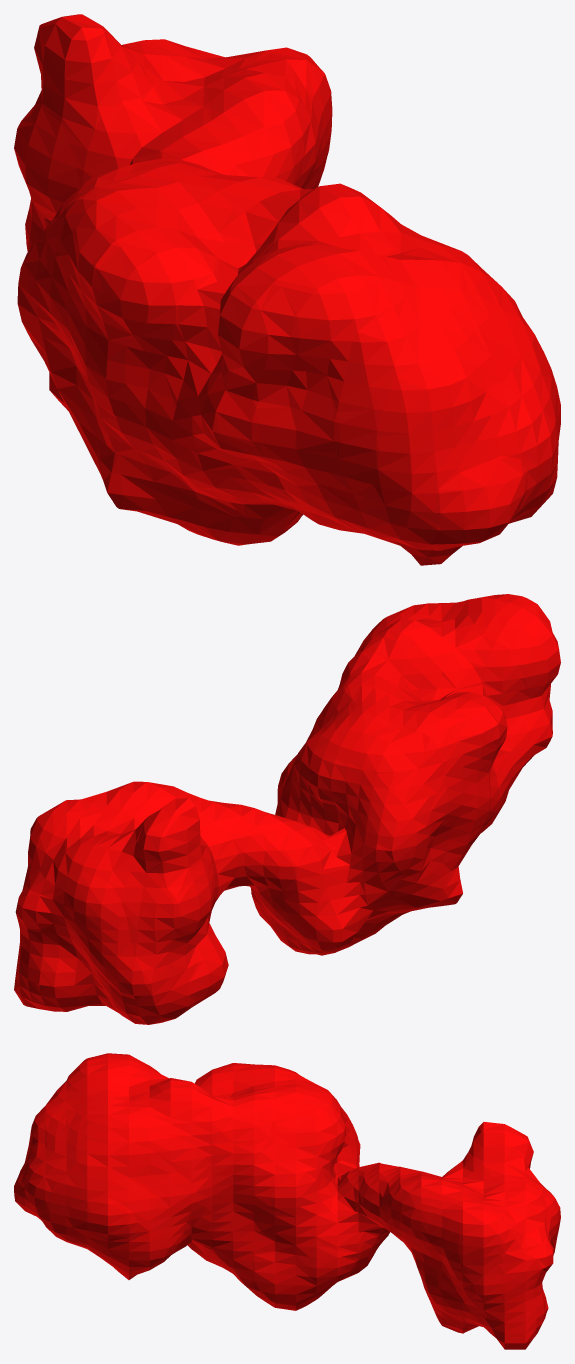
Rendered from ydcI_coarse.dae.
The picture shows the model from 3 angles, top to bottom: view 1: azimuth 30°, elevation 25°; view 2: azimuth 150°, elevation 25°; view 3: azimuth 270°, elevation 25°; orthographic projection. The views are drawn at different scales.
Visible parts, largest first — view 1: ydcI; view 2: ydcI; view 3: ydcI.
Boxes of the visible parts, x1,y1,x2,y2 form: ydcI: (14, 14, 560, 565); ydcI: (14, 594, 560, 1024); ydcI: (14, 1053, 560, 1349).
Bounding box in the file's own units: 51.47 × 44.68 × 99.44.
